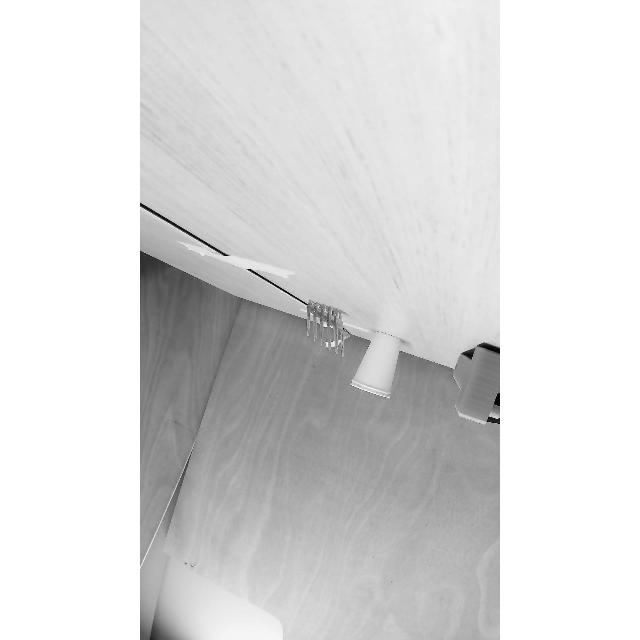targets: (454, 336, 500, 436), (356, 329, 404, 405), (304, 298, 352, 366)
